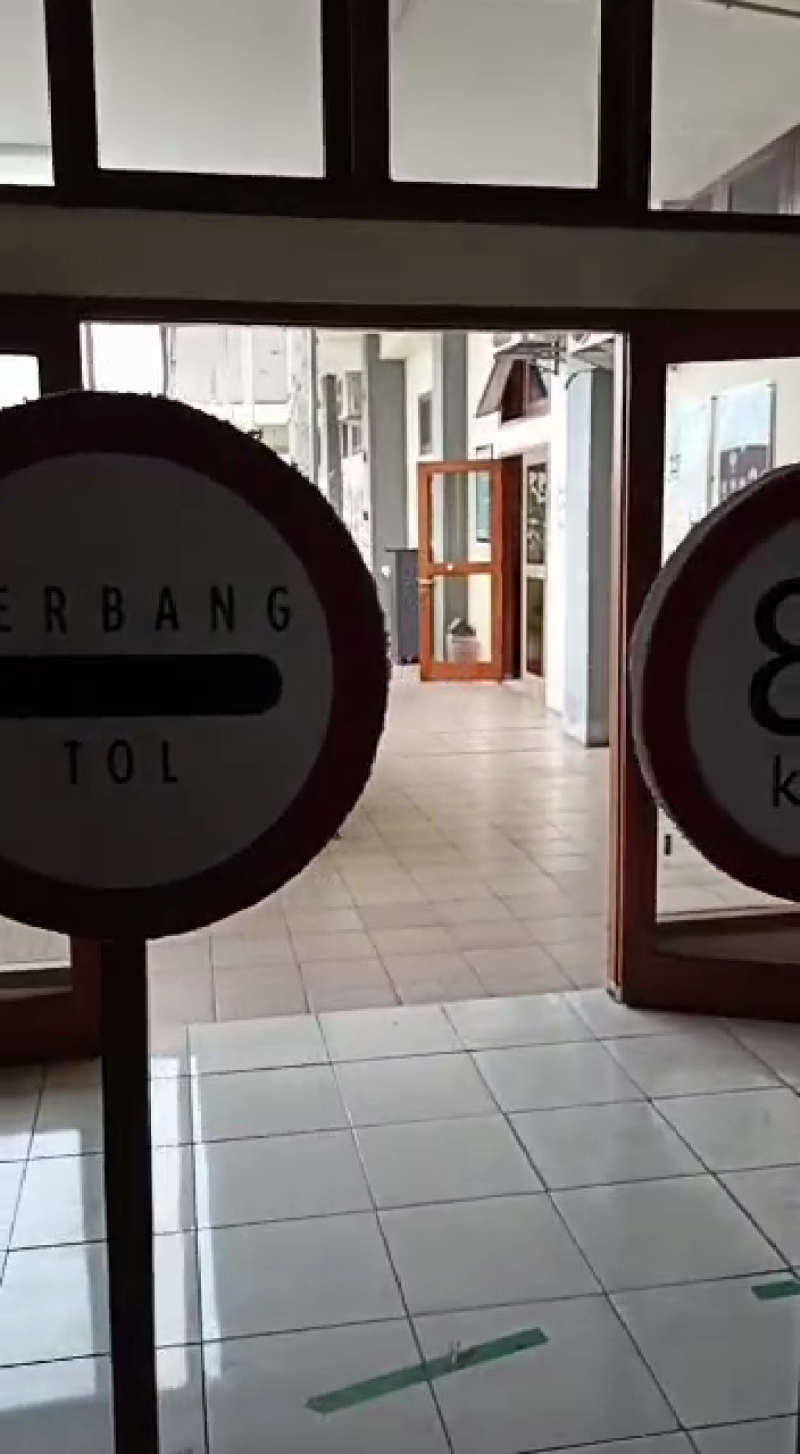gerbang tol: (1, 385, 391, 976)
